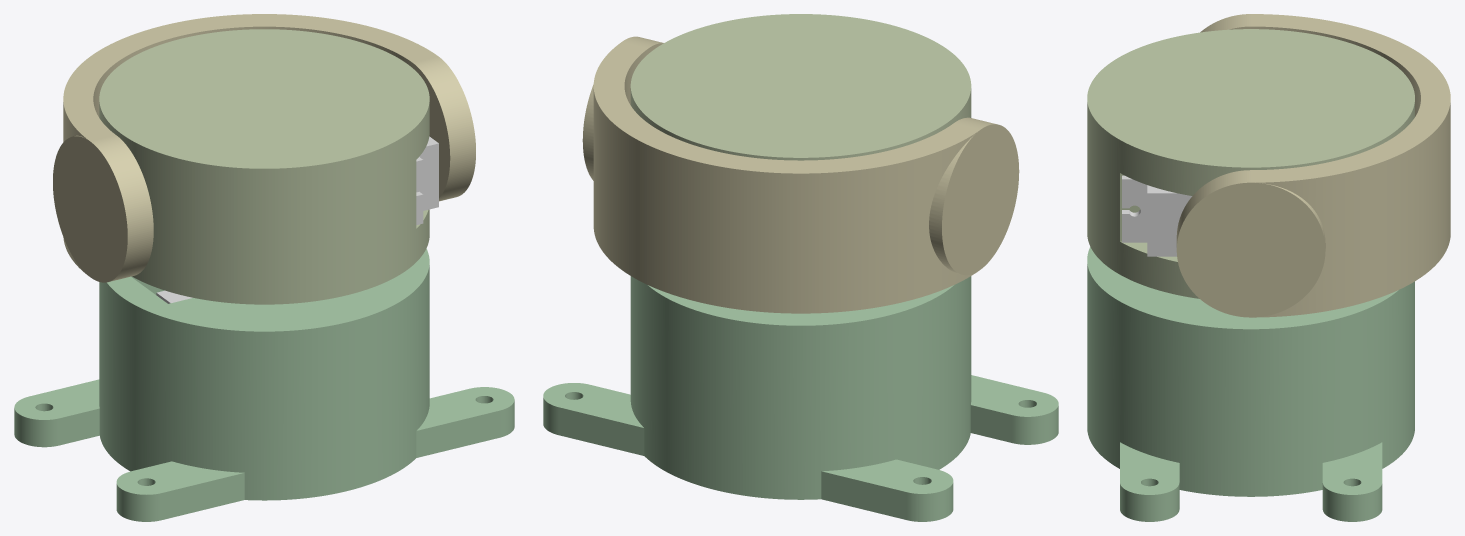
3 renders of one model, left to right at view 1: azimuth 30°, elevation 25°; view 2: azimuth 150°, elevation 25°; view 3: azimuth 270°, elevation 25°, orthographic. The views are drawn at different scales.
Parts seen in each view (by area): view 1: out-base, out-yaw, out-pitch, out-pitch_servo-servobody; view 2: out-base, out-pitch, out-yaw; view 3: out-base, out-yaw, out-pitch, out-pitch_servo-servobody.
Part boxes in pixels (<box>): out-base: <box>14,248,514,521</box>; out-yaw: <box>99,29,429,304</box>; out-pitch: <box>53,14,475,282</box>; out-pitch_servo-servobody: <box>416,136,438,225</box>; out-base: <box>543,276,1058,521</box>; out-pitch: <box>582,36,1019,313</box>; out-yaw: <box>630,14,971,160</box>; out-base: <box>1087,247,1414,521</box>; out-yaw: <box>1087,29,1414,298</box>; out-pitch: <box>1176,14,1450,317</box>; out-pitch_servo-servobody: <box>1122,175,1192,256</box>.
Bounding box in the file's own units: 0.0751 × 0.0611 × 0.0611.
